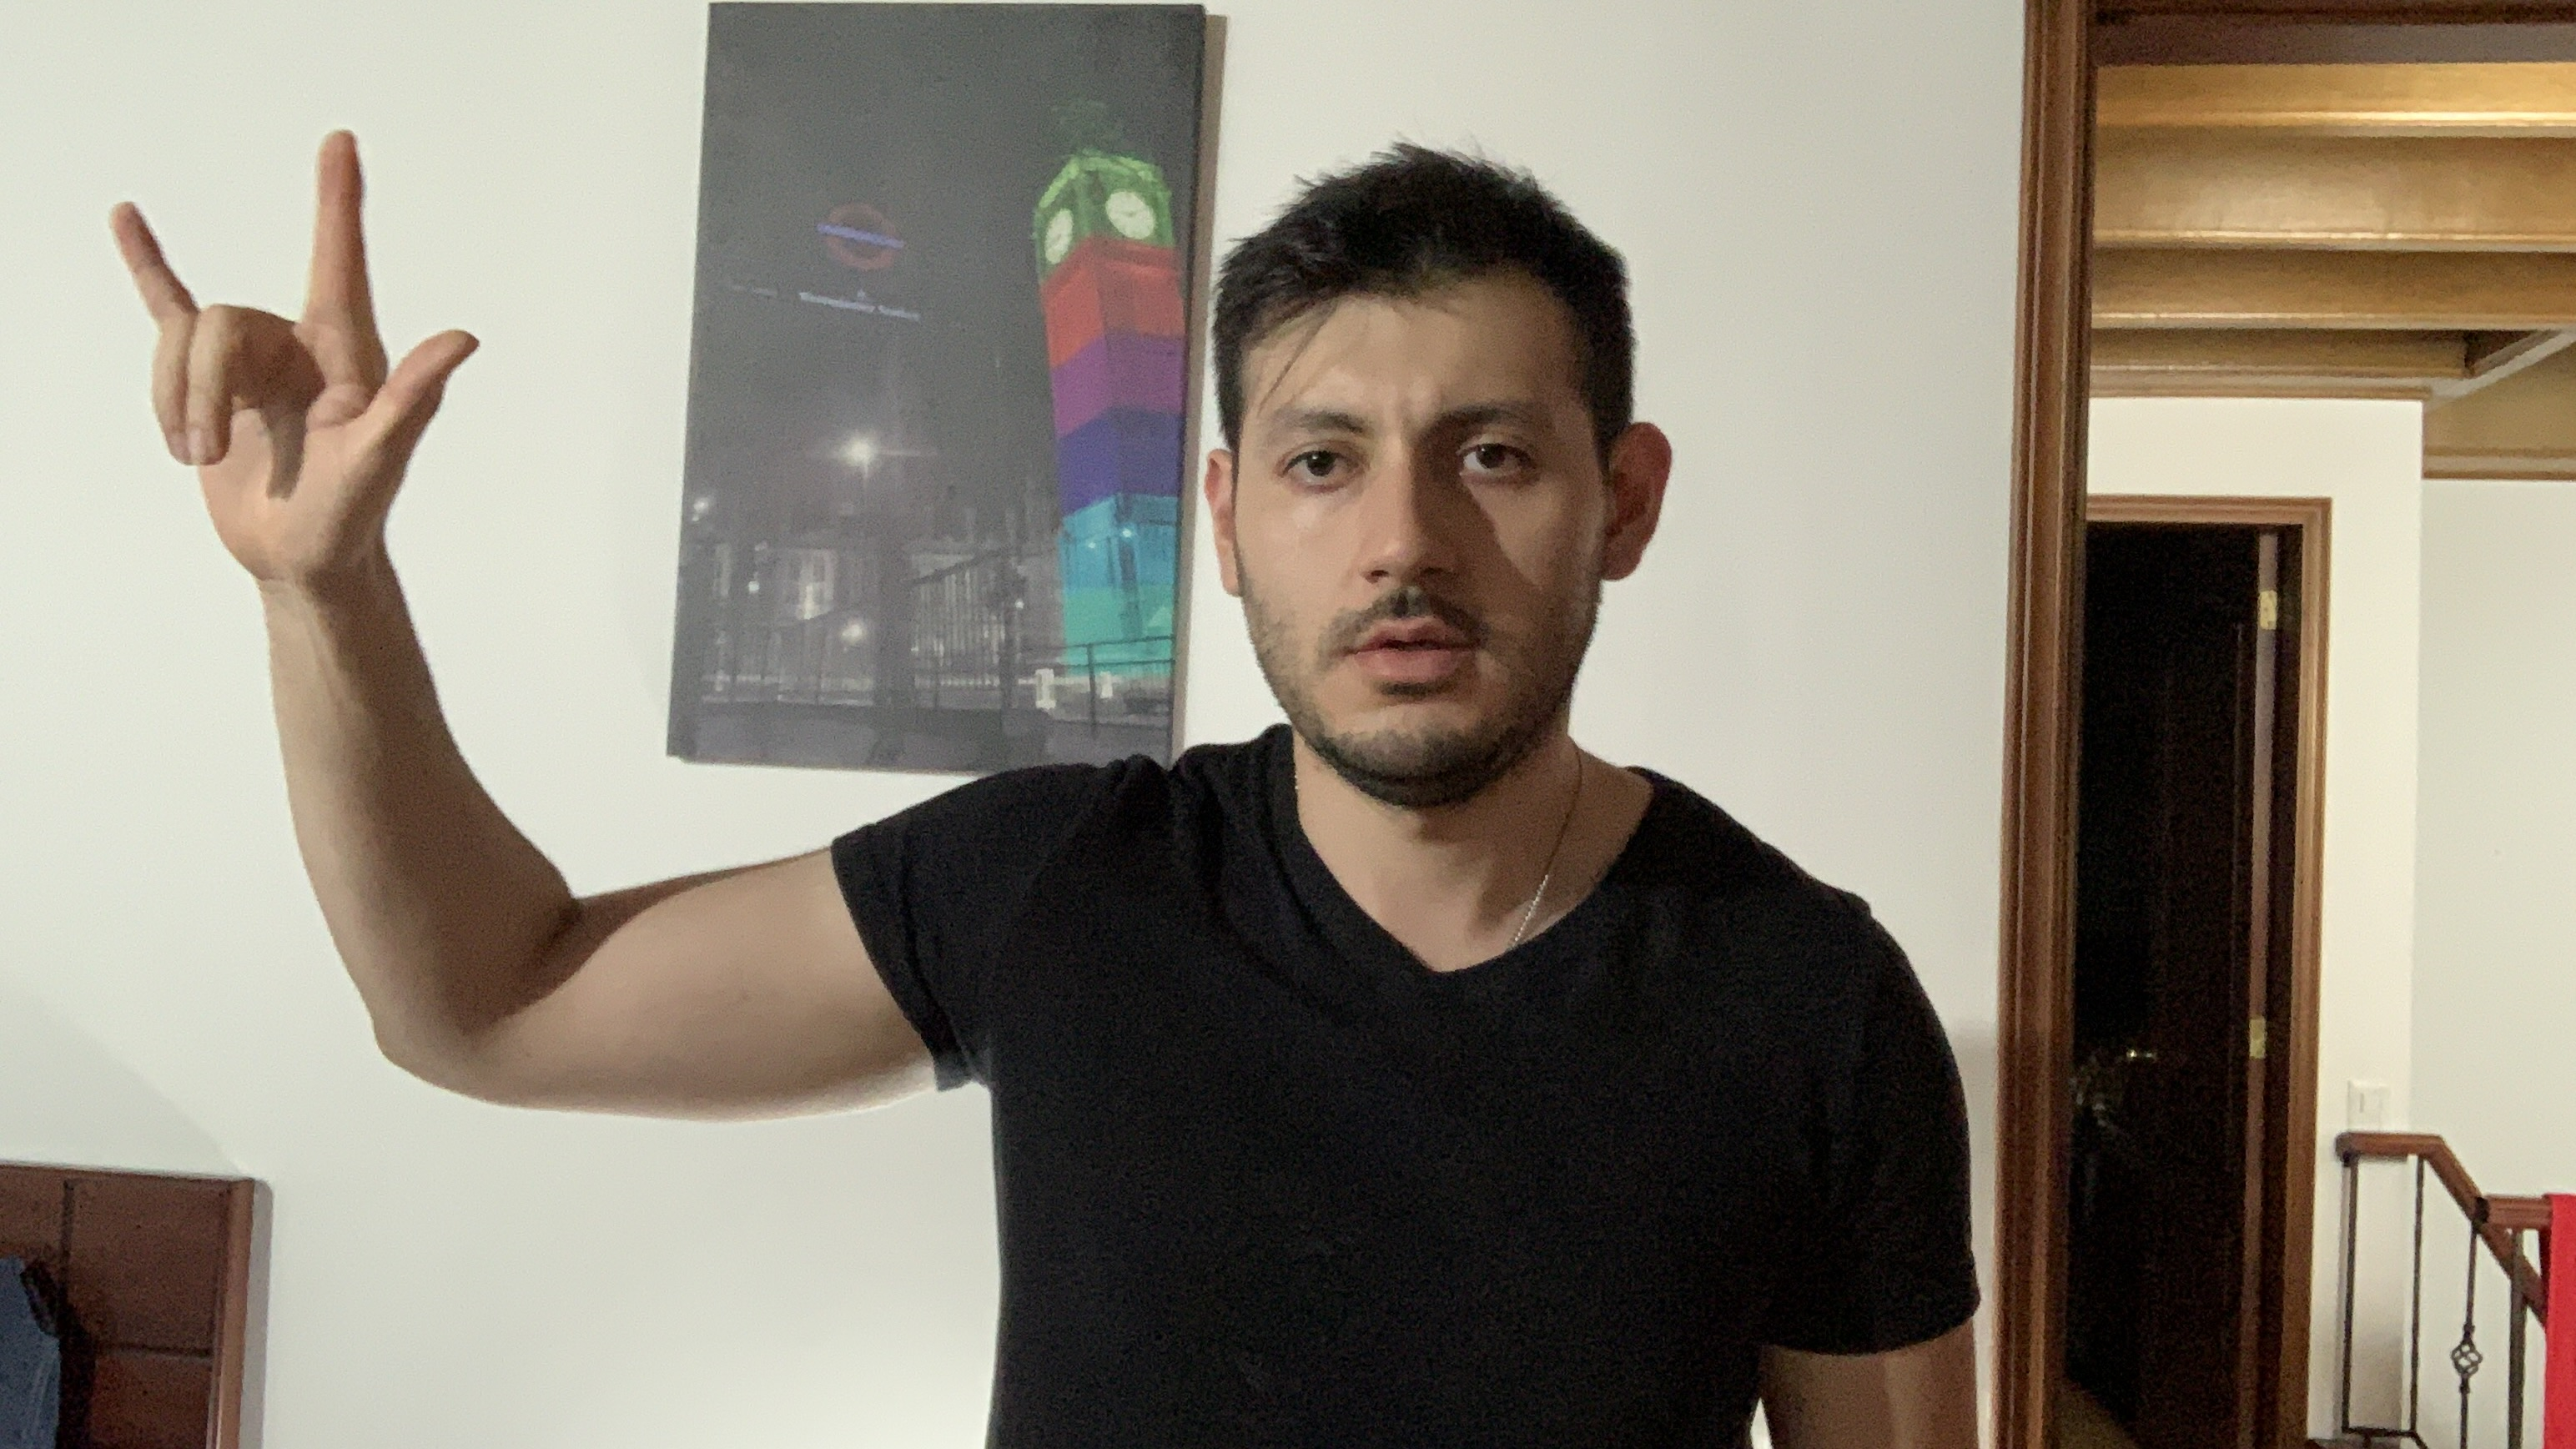I Love You: (101, 122, 492, 580)
